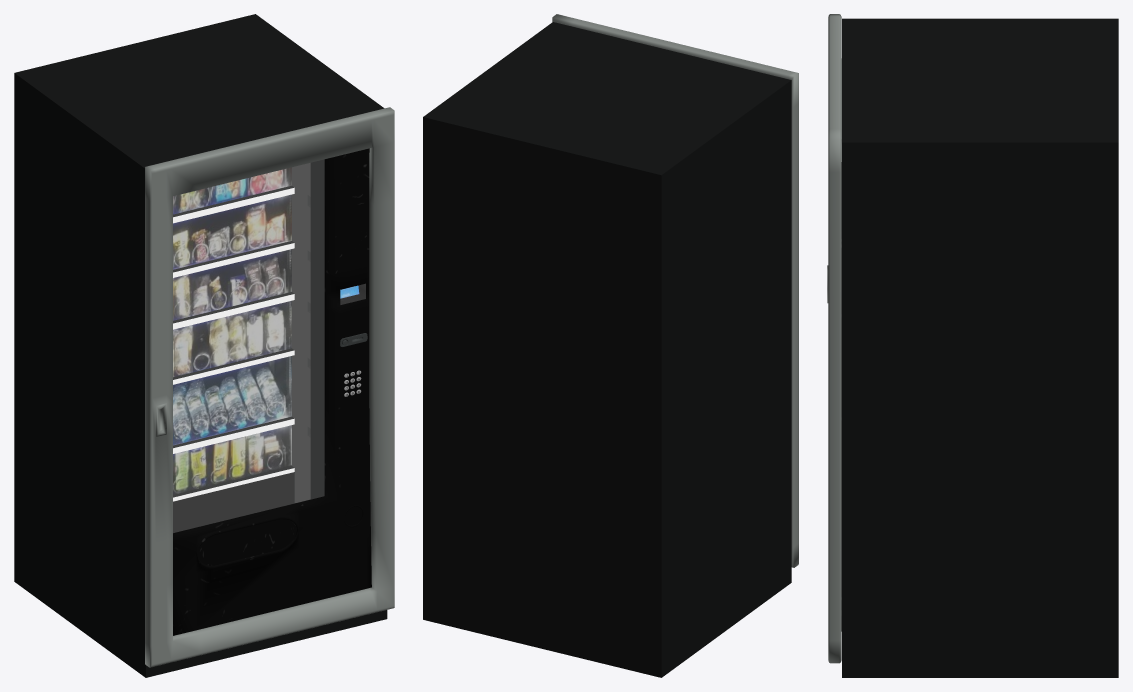
The model's file is Vending Machine.glb.
3 views of the same model, side by side, from view 1: azimuth 30°, elevation 25°; view 2: azimuth 150°, elevation 25°; view 3: azimuth 270°, elevation 25° (orthographic). The views are drawn at different scales.
Parts seen in each view (by area): view 1: VendingMachine_MainBody; view 2: VendingMachine_MainBody; view 3: VendingMachine_MainBody.
Boxes of the visible parts, x1=… form: VendingMachine_MainBody: x1=14, y1=14, x2=394, y2=677; VendingMachine_MainBody: x1=423, y1=14, x2=798, y2=677; VendingMachine_MainBody: x1=827, y1=14, x2=1118, y2=677.
Bounding box in the file's own units: 1 × 2 × 0.9804.
15 materials, 3 textured.
